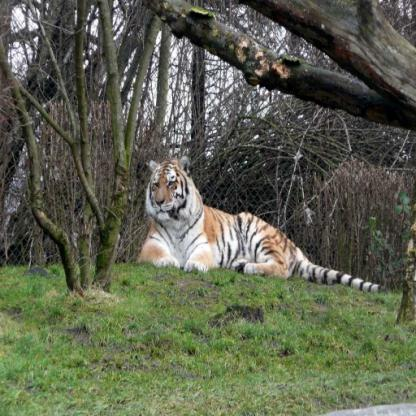Tiger: (129, 152, 398, 297)
